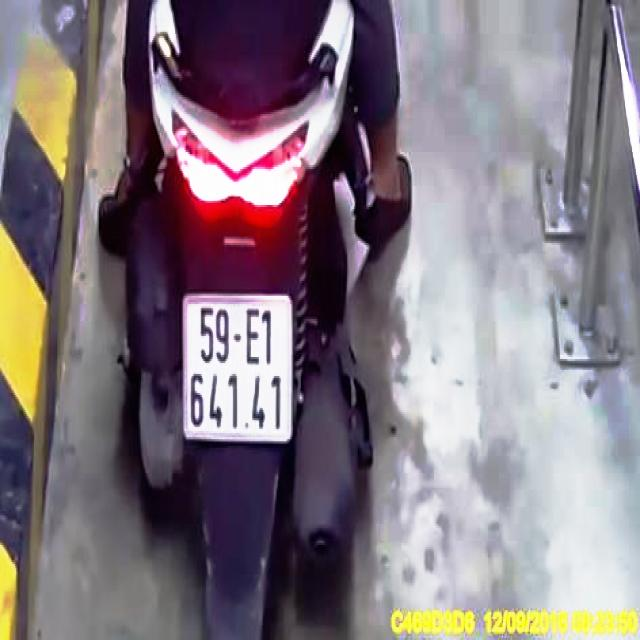license_plate: (184, 299, 292, 440)
